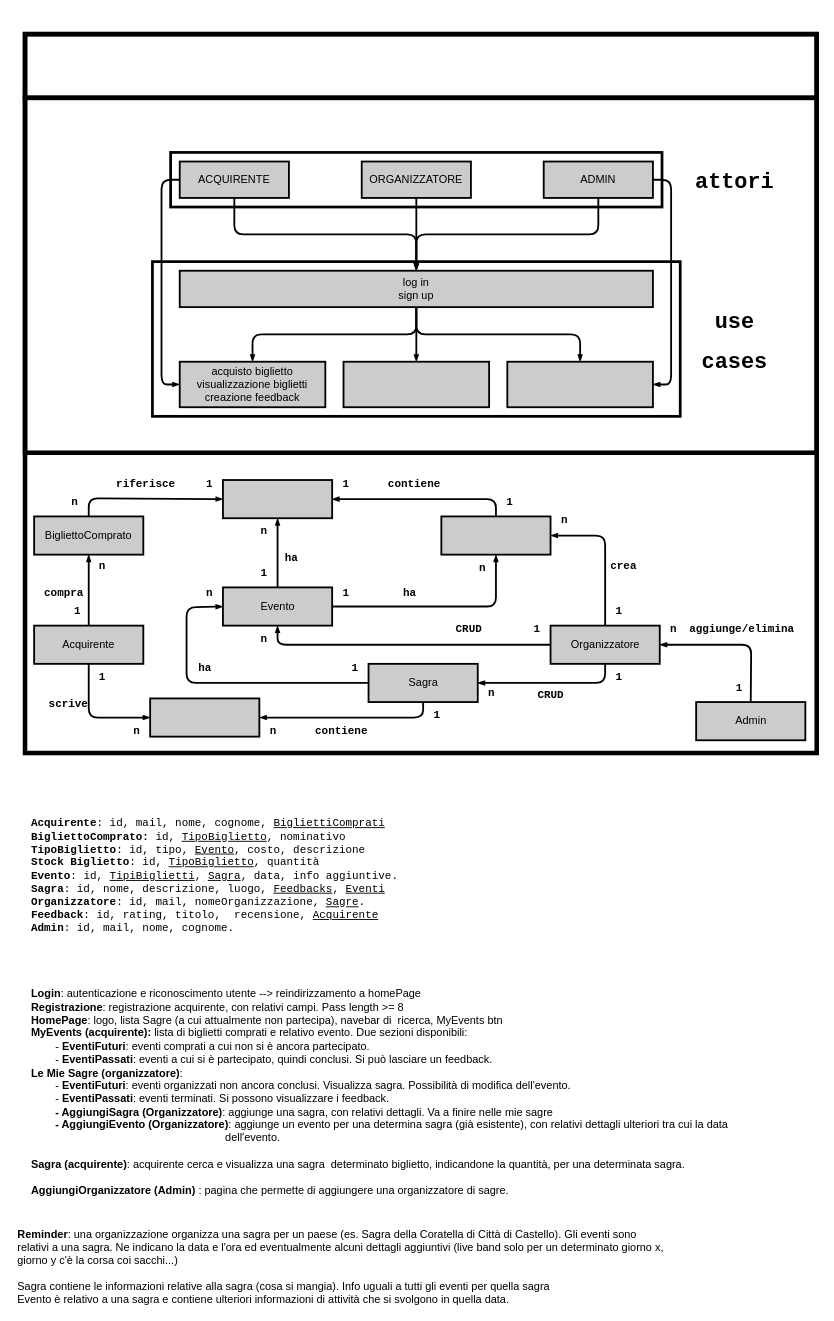
This 834x1321 diagram has some shape labels left out. The centre of each missing label's shape, as x and y in pixels:
"add/delete organizzatore delete acquirente" belongs at (579,384).
"CRUD evento visualizzazione vendite" belongs at (416,384).
"Feedback" belongs at (204,717).
"PROGETTO SAGRADA FAMILIA" belongs at (420,65).
"StockBiglietto" belongs at (495,535).
"TipoBiglietto" belongs at (277,499).
